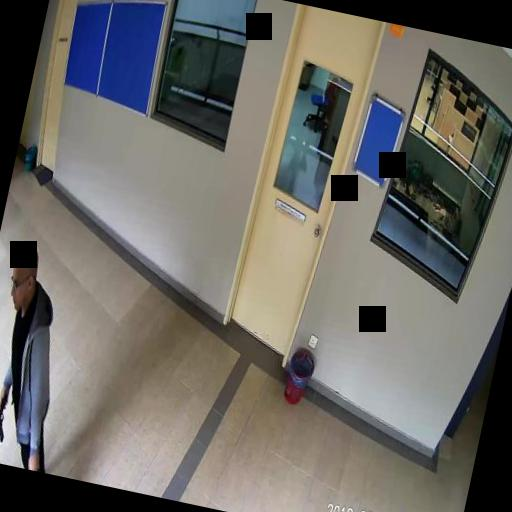Handgun: (0, 394, 9, 439)
